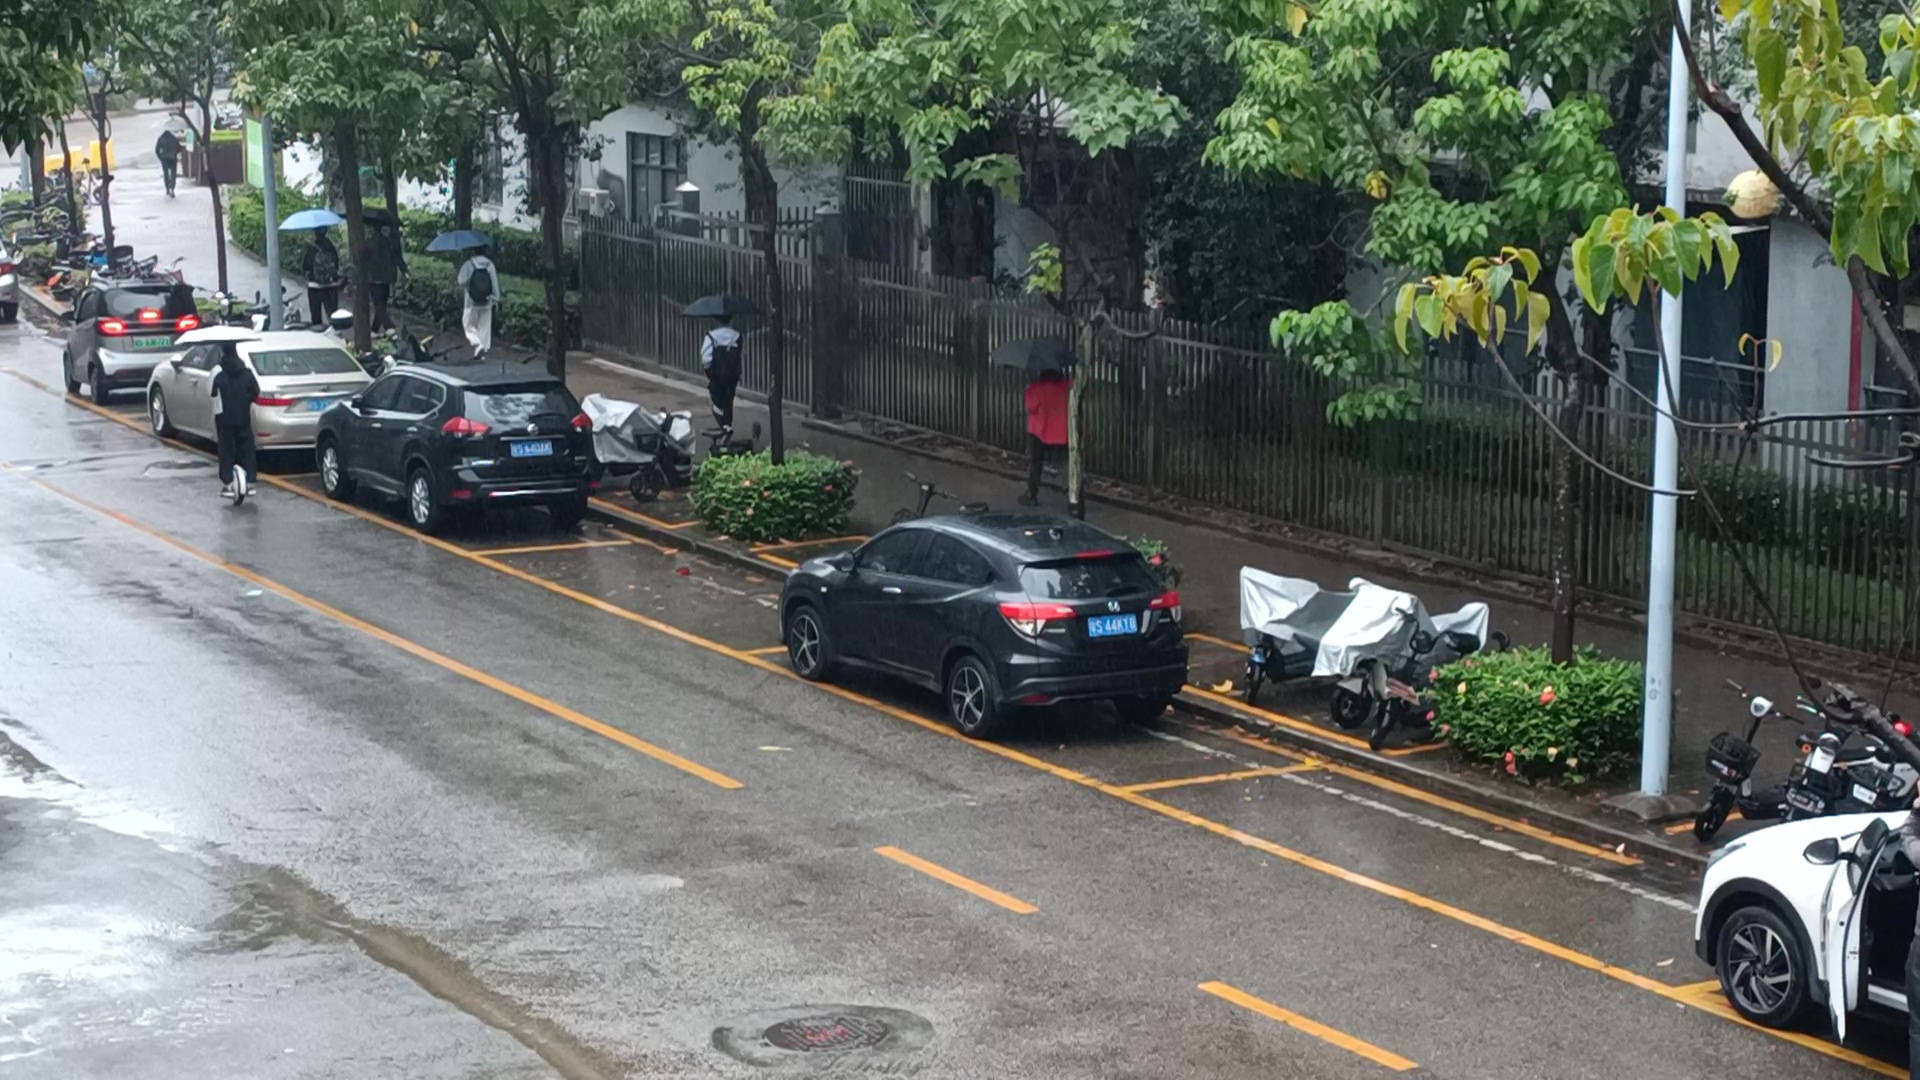space-empty: (1121, 752, 1811, 1000), (485, 526, 909, 653)
space-occupied: (736, 615, 1331, 790), (272, 456, 642, 560), (111, 397, 390, 485), (54, 375, 233, 426)
